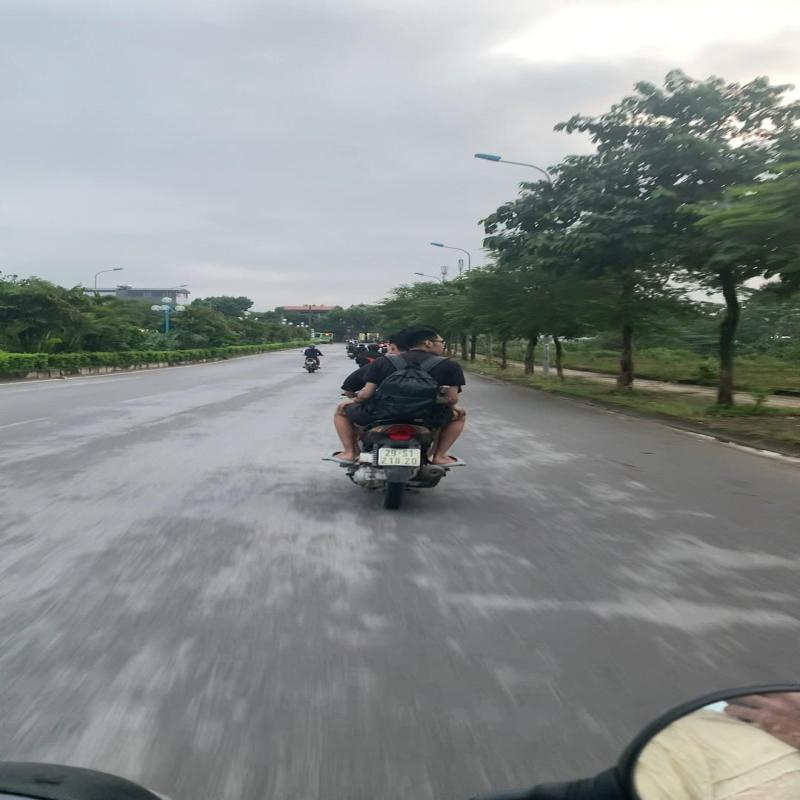licenseplate: (375, 446, 424, 468)
motorcyclist: (322, 322, 470, 510)
nohelmet: (392, 324, 450, 354)
